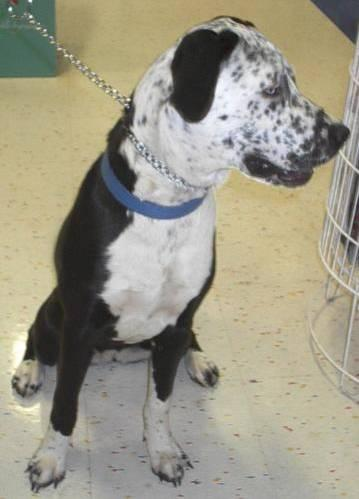dog: (11, 16, 348, 490)
